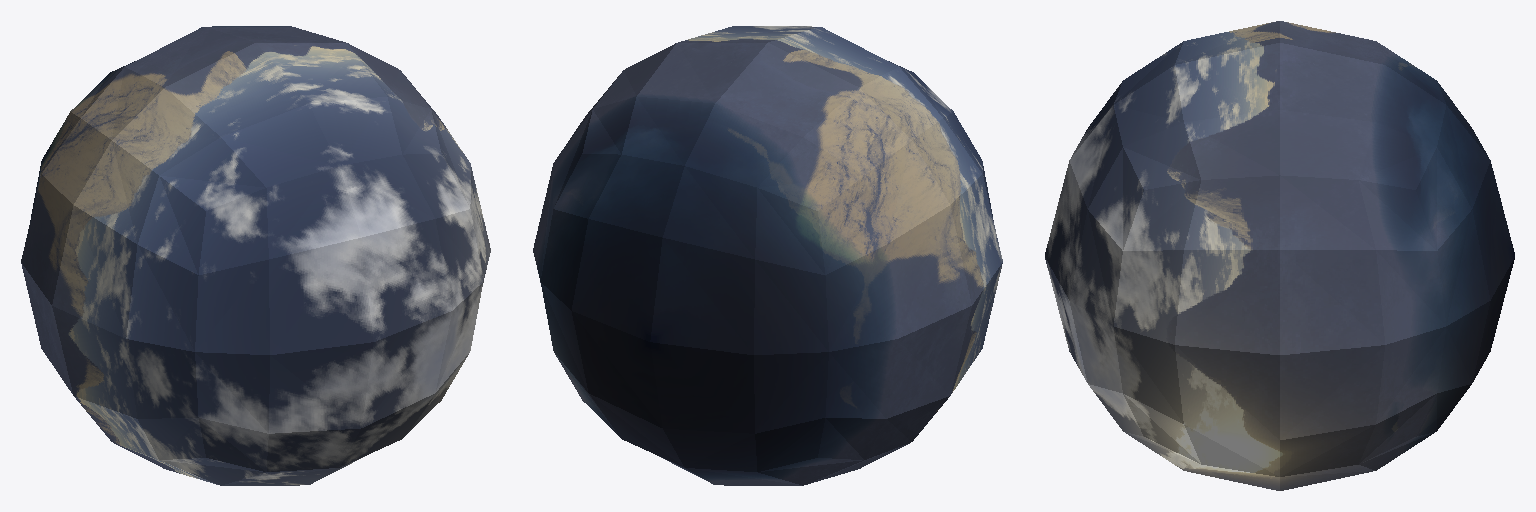
3 views of the same model, side by side, from view 1: azimuth 30°, elevation 25°; view 2: azimuth 150°, elevation 25°; view 3: azimuth 270°, elevation 25° (orthographic).
Visible parts, largest first — view 1: Cube; view 2: Cube; view 3: Cube.
Part boxes in pixels (bbox=[...]): Cube: bbox=[21, 26, 490, 485]; Cube: bbox=[533, 26, 1002, 485]; Cube: bbox=[1045, 21, 1514, 490].
Size of the model in its own units: 2.63 by 2.63 by 2.63.
Materials: 1 (1 with a texture image).